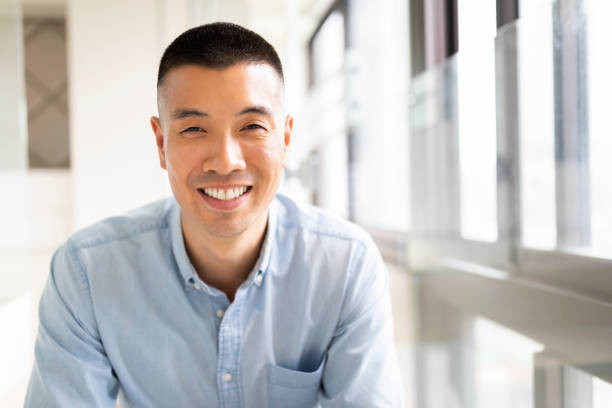person: (150, 20, 294, 241)
